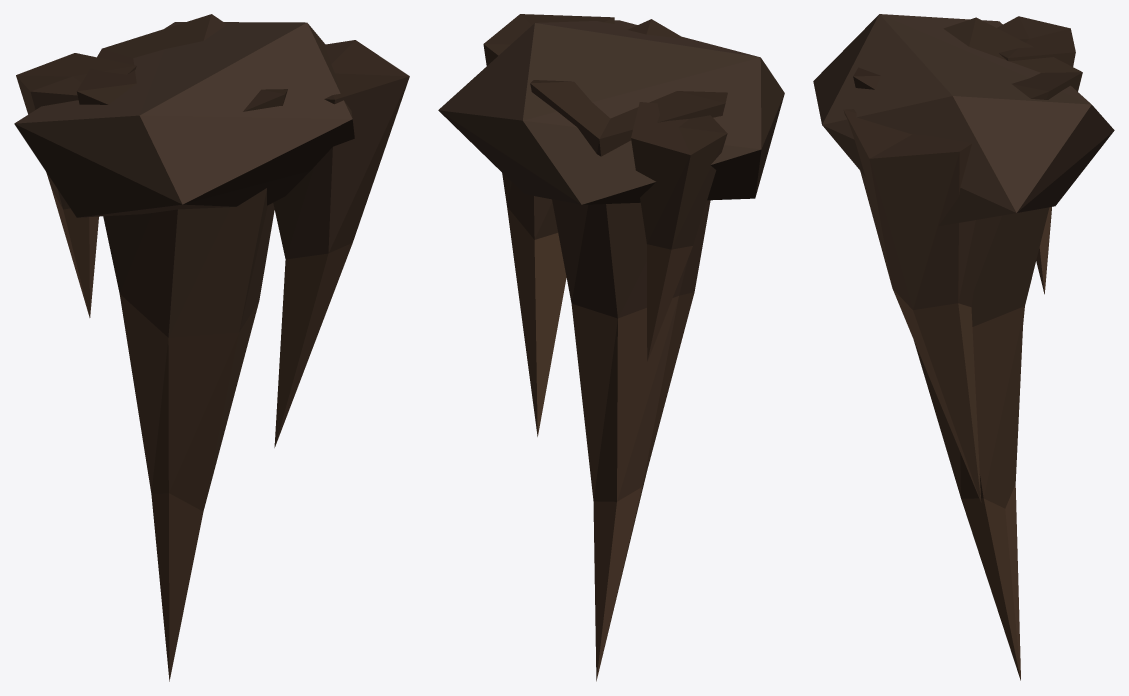
Rendered from tl_env_stalactite_b_v01.glb.
The picture shows the model from 3 angles, left to right: view 1: azimuth 30°, elevation 25°; view 2: azimuth 150°, elevation 25°; view 3: azimuth 270°, elevation 25°; orthographic projection. The views are drawn at different scales.
Visible parts, largest first — view 1: tl_env_stalactite_b_v01; view 2: tl_env_stalactite_b_v01; view 3: tl_env_stalactite_b_v01.
Part boxes in pixels (x1,y1,x2,y2): tl_env_stalactite_b_v01: (14, 14, 409, 681); tl_env_stalactite_b_v01: (438, 14, 784, 681); tl_env_stalactite_b_v01: (813, 14, 1114, 680).
Bounding box in the file's own units: 1.25 × 2.32 × 1.
